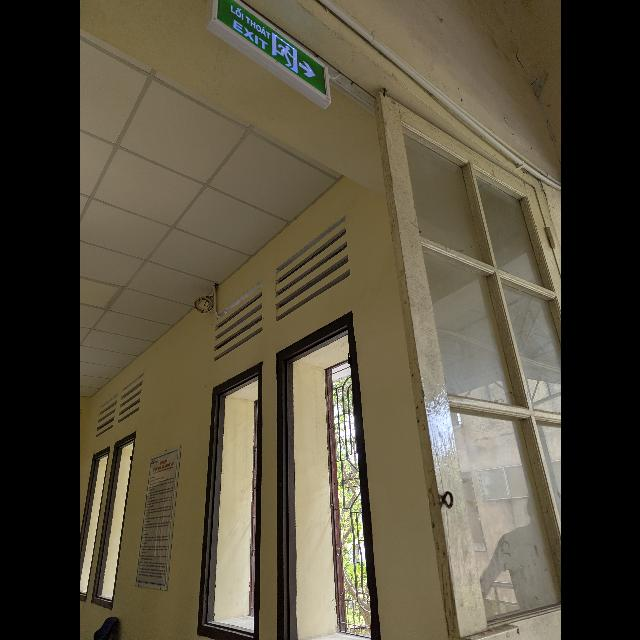exit: (207, 0, 330, 108)
